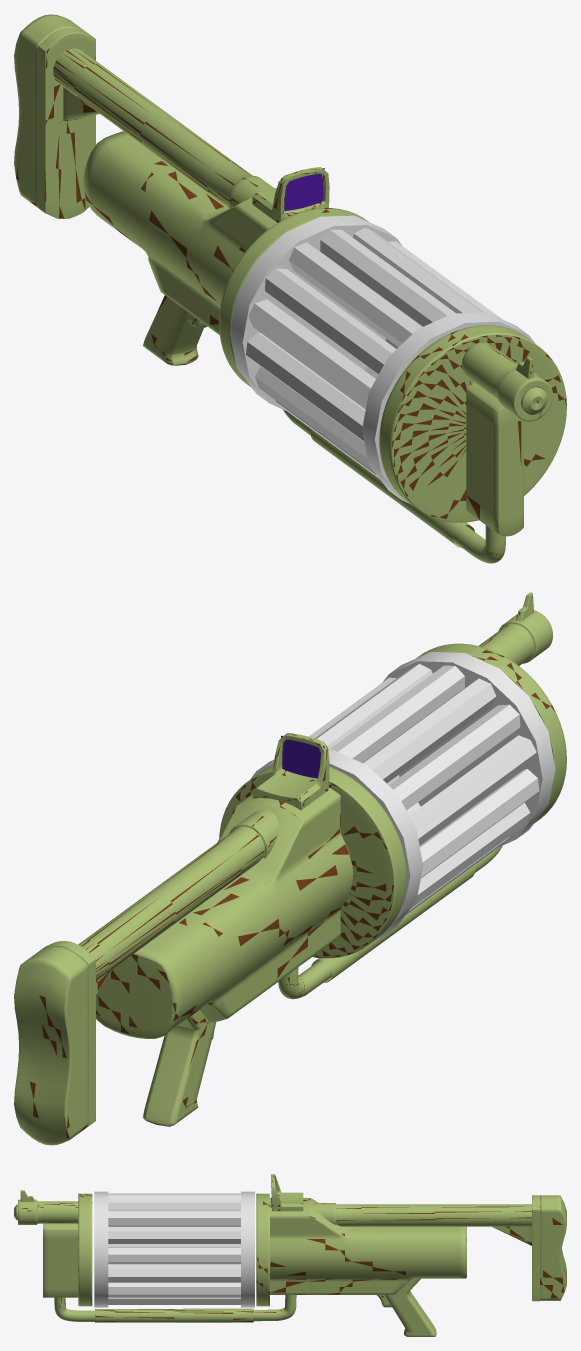
The model's file is RipScript.fbx.
The picture shows the model from 3 angles, top to bottom: view 1: azimuth 30°, elevation 25°; view 2: azimuth 150°, elevation 25°; view 3: azimuth 270°, elevation 25°; orthographic projection. The views are drawn at different scales.
Visible parts, largest first — view 1: 002_0_2, 000_0_0, 001_0_1; view 2: 002_0_2, 000_0_0, 001_0_1; view 3: 002_0_2, 000_0_0.
Boxes of the visible parts, <box> form: 002_0_2: <box>14,14,566,563</box>; 000_0_0: <box>230,215,535,503</box>; 001_0_1: <box>281,168,324,210</box>; 002_0_2: <box>14,592,566,1145</box>; 000_0_0: <box>250,652,555,939</box>; 001_0_1: <box>281,735,324,778</box>; 002_0_2: <box>14,1174,566,1336</box>; 000_0_0: <box>94,1191,254,1307</box>.
Bounding box in the file's own units: 20 × 29.67 × 95.49.
